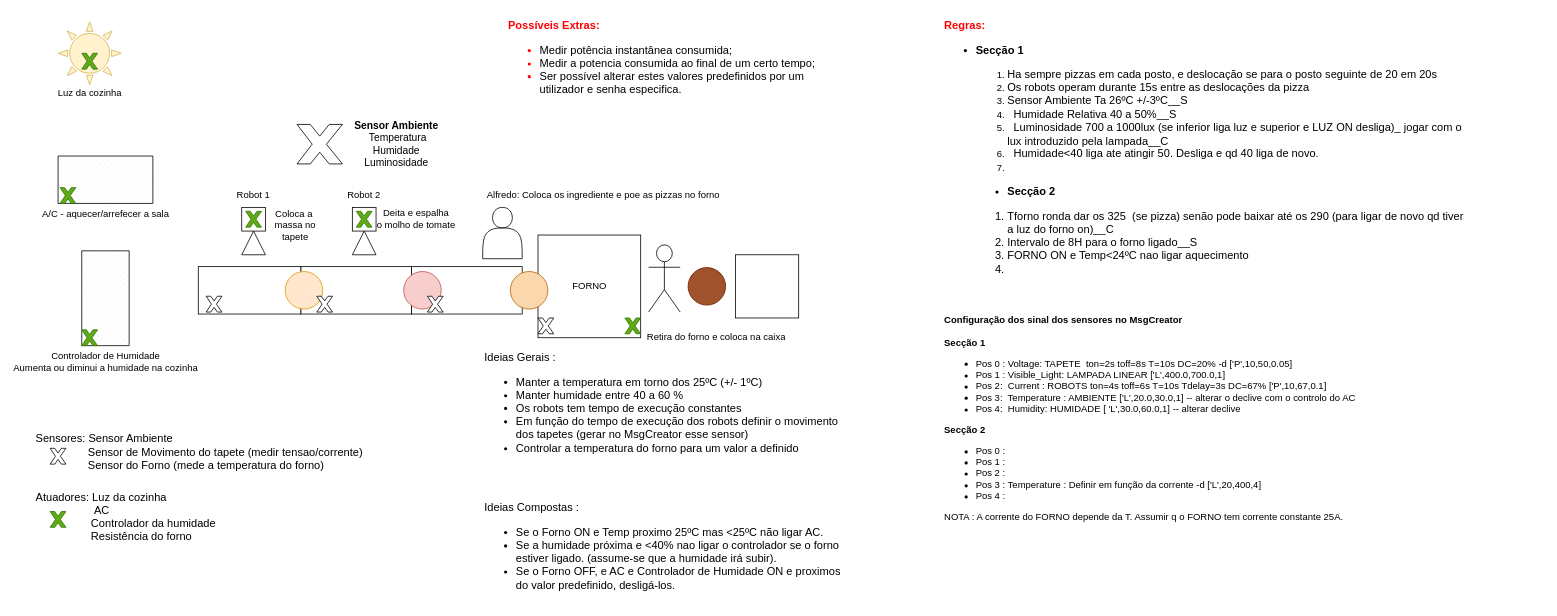
Image size: 1557x616. Some labels were removed from this diagram. The shapes that lost their labels are listed below. From the top down, each one's centre as x and y in pixels, then its label:
At point (664, 278): "Jeremias".
At point (767, 286): "Caixa da Pizza".
